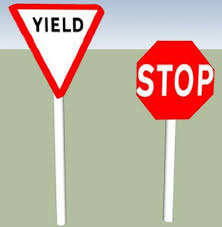stop sign: (135, 40, 215, 120)
